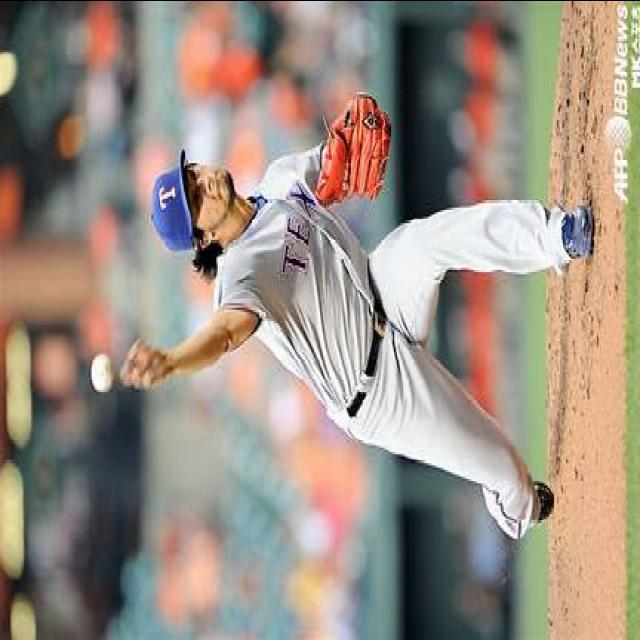ball: (90, 352, 115, 393)
glove: (309, 84, 394, 213)
